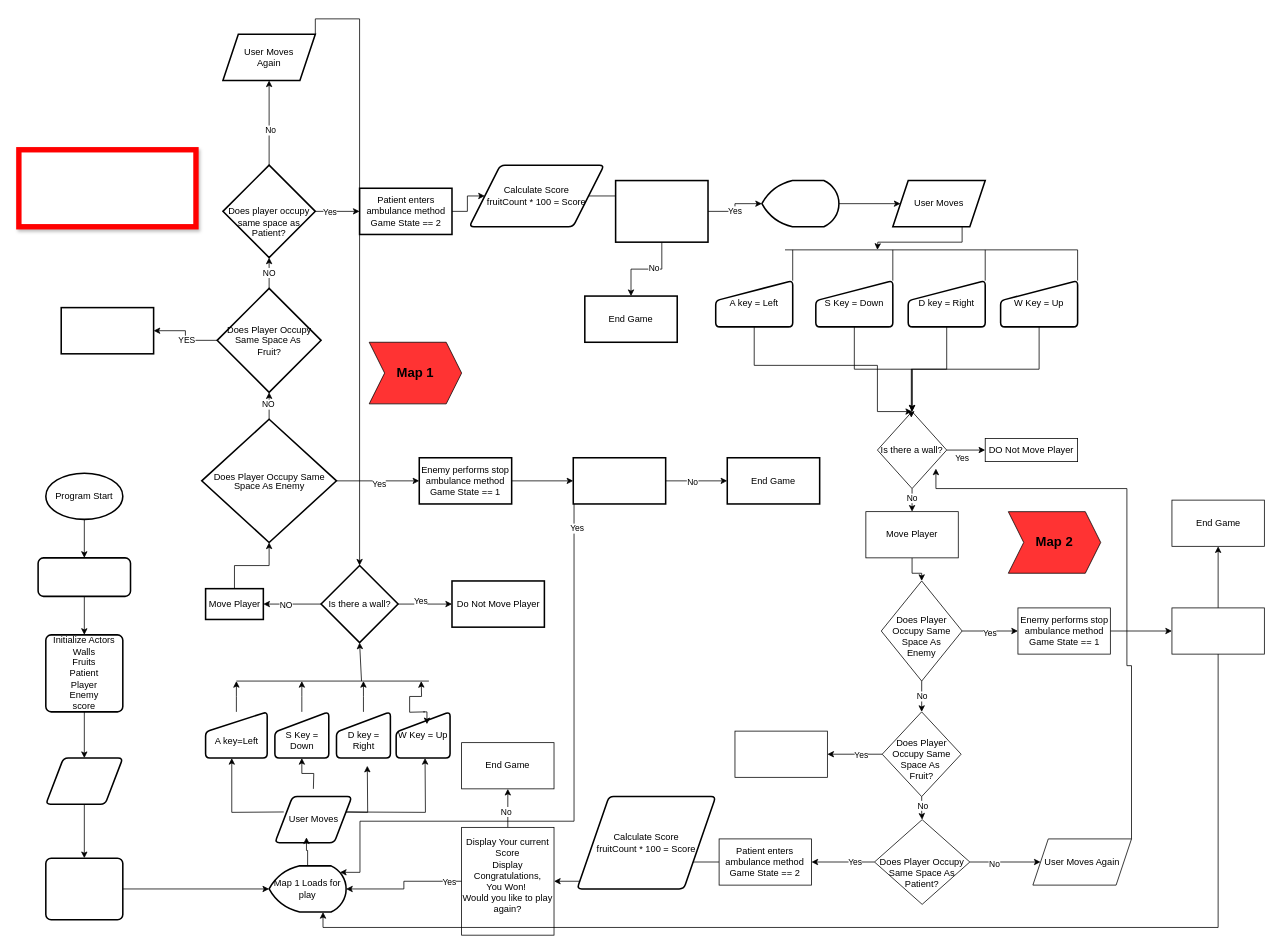
Some shapes in this 1278 by 949 pixel diagram are drawn without their labels. Each missing label, with the centre of its shape:
"Display score Display Text Congrats You Win, Would you like to Try Another?" goes at [661,211].
"Display Sorry, You Loose! Try Again?" goes at [619,480].
"Display Sorry, You Loose, Try Again" goes at [1217,630].
"fruitCount++ fruit disappears" goes at [780,753].
"fruityCount++ Fruit disappears" goes at [107,330].
"Game State == 0" goes at [84,888].
"Initialize Map Game State == 0" goes at [84,577].
"Load Map 2" goes at [800,203].
"Rescue Rush Flow Chart By Casey Barger CSC 170" goes at [108,189].
"User Pushes Start" goes at [84,781].
